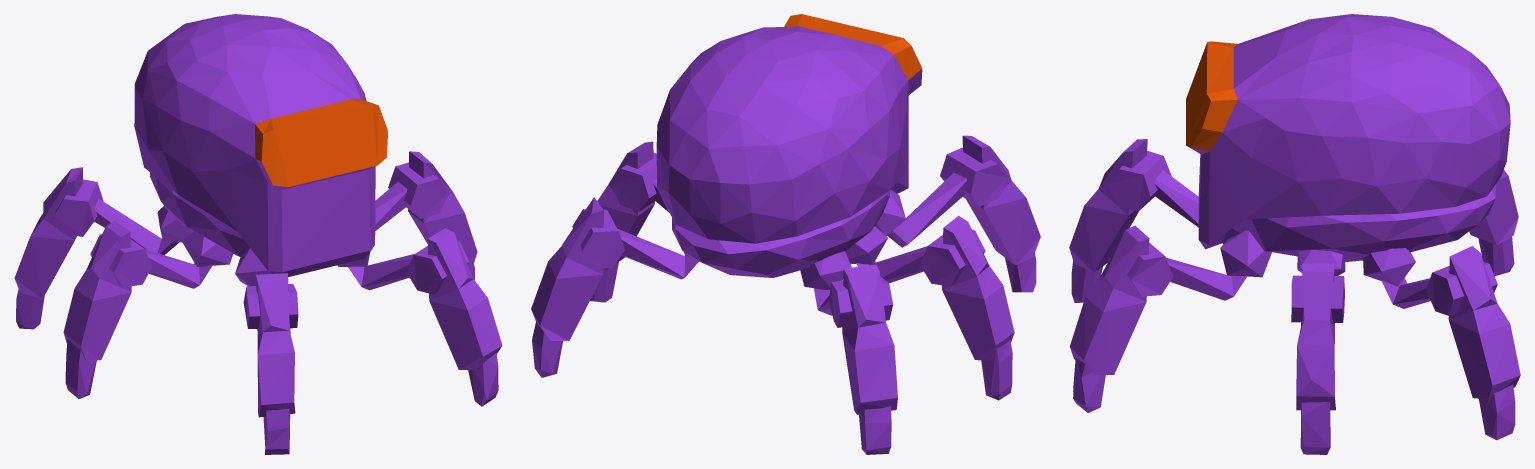
File: spidy.fbx
3 renders of one model, left to right at view 1: azimuth 30°, elevation 25°; view 2: azimuth 150°, elevation 25°; view 3: azimuth 270°, elevation 25°, orthographic. The views are drawn at different scales.
Visible parts, largest first — view 1: body, leg_LM_upper, leg_RF_upper, leg_LB_upper, leg_LF_upper, leg_RM_upper, leg_LM_lower, leg_LF_lower, leg_RF_lower, leg_LB_lower; view 2: body, leg_LM_upper, leg_LF_upper, leg_LB_upper, leg_RB_upper, leg_RM_upper, leg_LB_lower, leg_LM_lower, leg_RB_lower, leg_LF_lower, leg_RM_lower; view 3: body, leg_RF_upper, leg_RB_upper, leg_LF_upper, leg_RM_upper, leg_LB_upper, leg_RM_lower, leg_RB_lower, leg_RF_lower, leg_LB_lower, leg_LF_lower.
Part boxes in pixels (x1=…): body: x1=134, y1=14, x2=387, y2=276; leg_LM_upper: x1=63, y1=221, x2=232, y2=360; leg_RF_upper: x1=337, y1=228, x2=502, y2=370; leg_LB_upper: x1=14, y1=167, x2=193, y2=298; leg_LF_upper: x1=235, y1=248, x2=298, y2=417; leg_RM_upper: x1=375, y1=151, x2=477, y2=269; leg_LM_lower: x1=65, y1=339, x2=96, y2=398; leg_LF_lower: x1=263, y1=408, x2=290, y2=454; leg_RF_lower: x1=468, y1=352, x2=498, y2=406; leg_LB_lower: x1=16, y1=289, x2=44, y2=329; body: x1=656, y1=14, x2=922, y2=277; leg_LM_upper: x1=845, y1=215, x2=1014, y2=360; leg_LF_upper: x1=875, y1=135, x2=1040, y2=265; leg_LB_upper: x1=800, y1=251, x2=897, y2=414; leg_RB_upper: x1=531, y1=197, x2=698, y2=340; leg_RM_upper: x1=597, y1=141, x2=668, y2=269; leg_LB_lower: x1=859, y1=406, x2=891, y2=454; leg_LM_lower: x1=981, y1=340, x2=1012, y2=400; leg_RB_lower: x1=532, y1=321, x2=562, y2=377; leg_LF_lower: x1=1005, y1=253, x2=1036, y2=292; leg_RM_lower: x1=590, y1=262, x2=618, y2=302; body: x1=1186, y1=14, x2=1510, y2=261; leg_RF_upper: x1=1070, y1=225, x2=1271, y2=374; leg_RB_upper: x1=1363, y1=246, x2=1520, y2=399; leg_LF_upper: x1=1069, y1=139, x2=1223, y2=272; leg_RM_upper: x1=1291, y1=249, x2=1345, y2=410; leg_LB_upper: x1=1469, y1=170, x2=1518, y2=245; leg_RM_lower: x1=1300, y1=402, x2=1330, y2=454; leg_RB_lower: x1=1479, y1=384, x2=1515, y2=440; leg_RF_lower: x1=1073, y1=358, x2=1105, y2=412; leg_LB_lower: x1=1478, y1=236, x2=1514, y2=275; leg_LF_lower: x1=1071, y1=261, x2=1102, y2=302.
Size of the model in its own units: 100 by 73.99 by 93.18.
